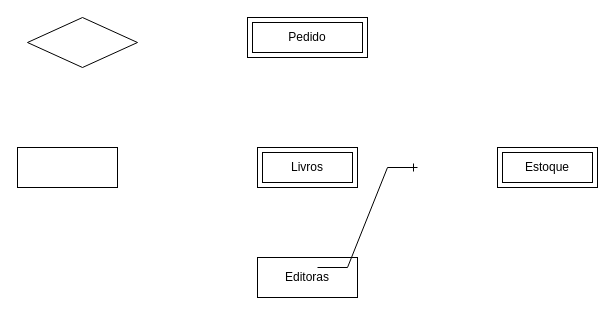
This 615x315 diagram has some shape labels left out. Each missing label, with the centre of its shape:
"Clientes" goes at (x=67, y=167).
"Relationship" goes at (x=82, y=42).
